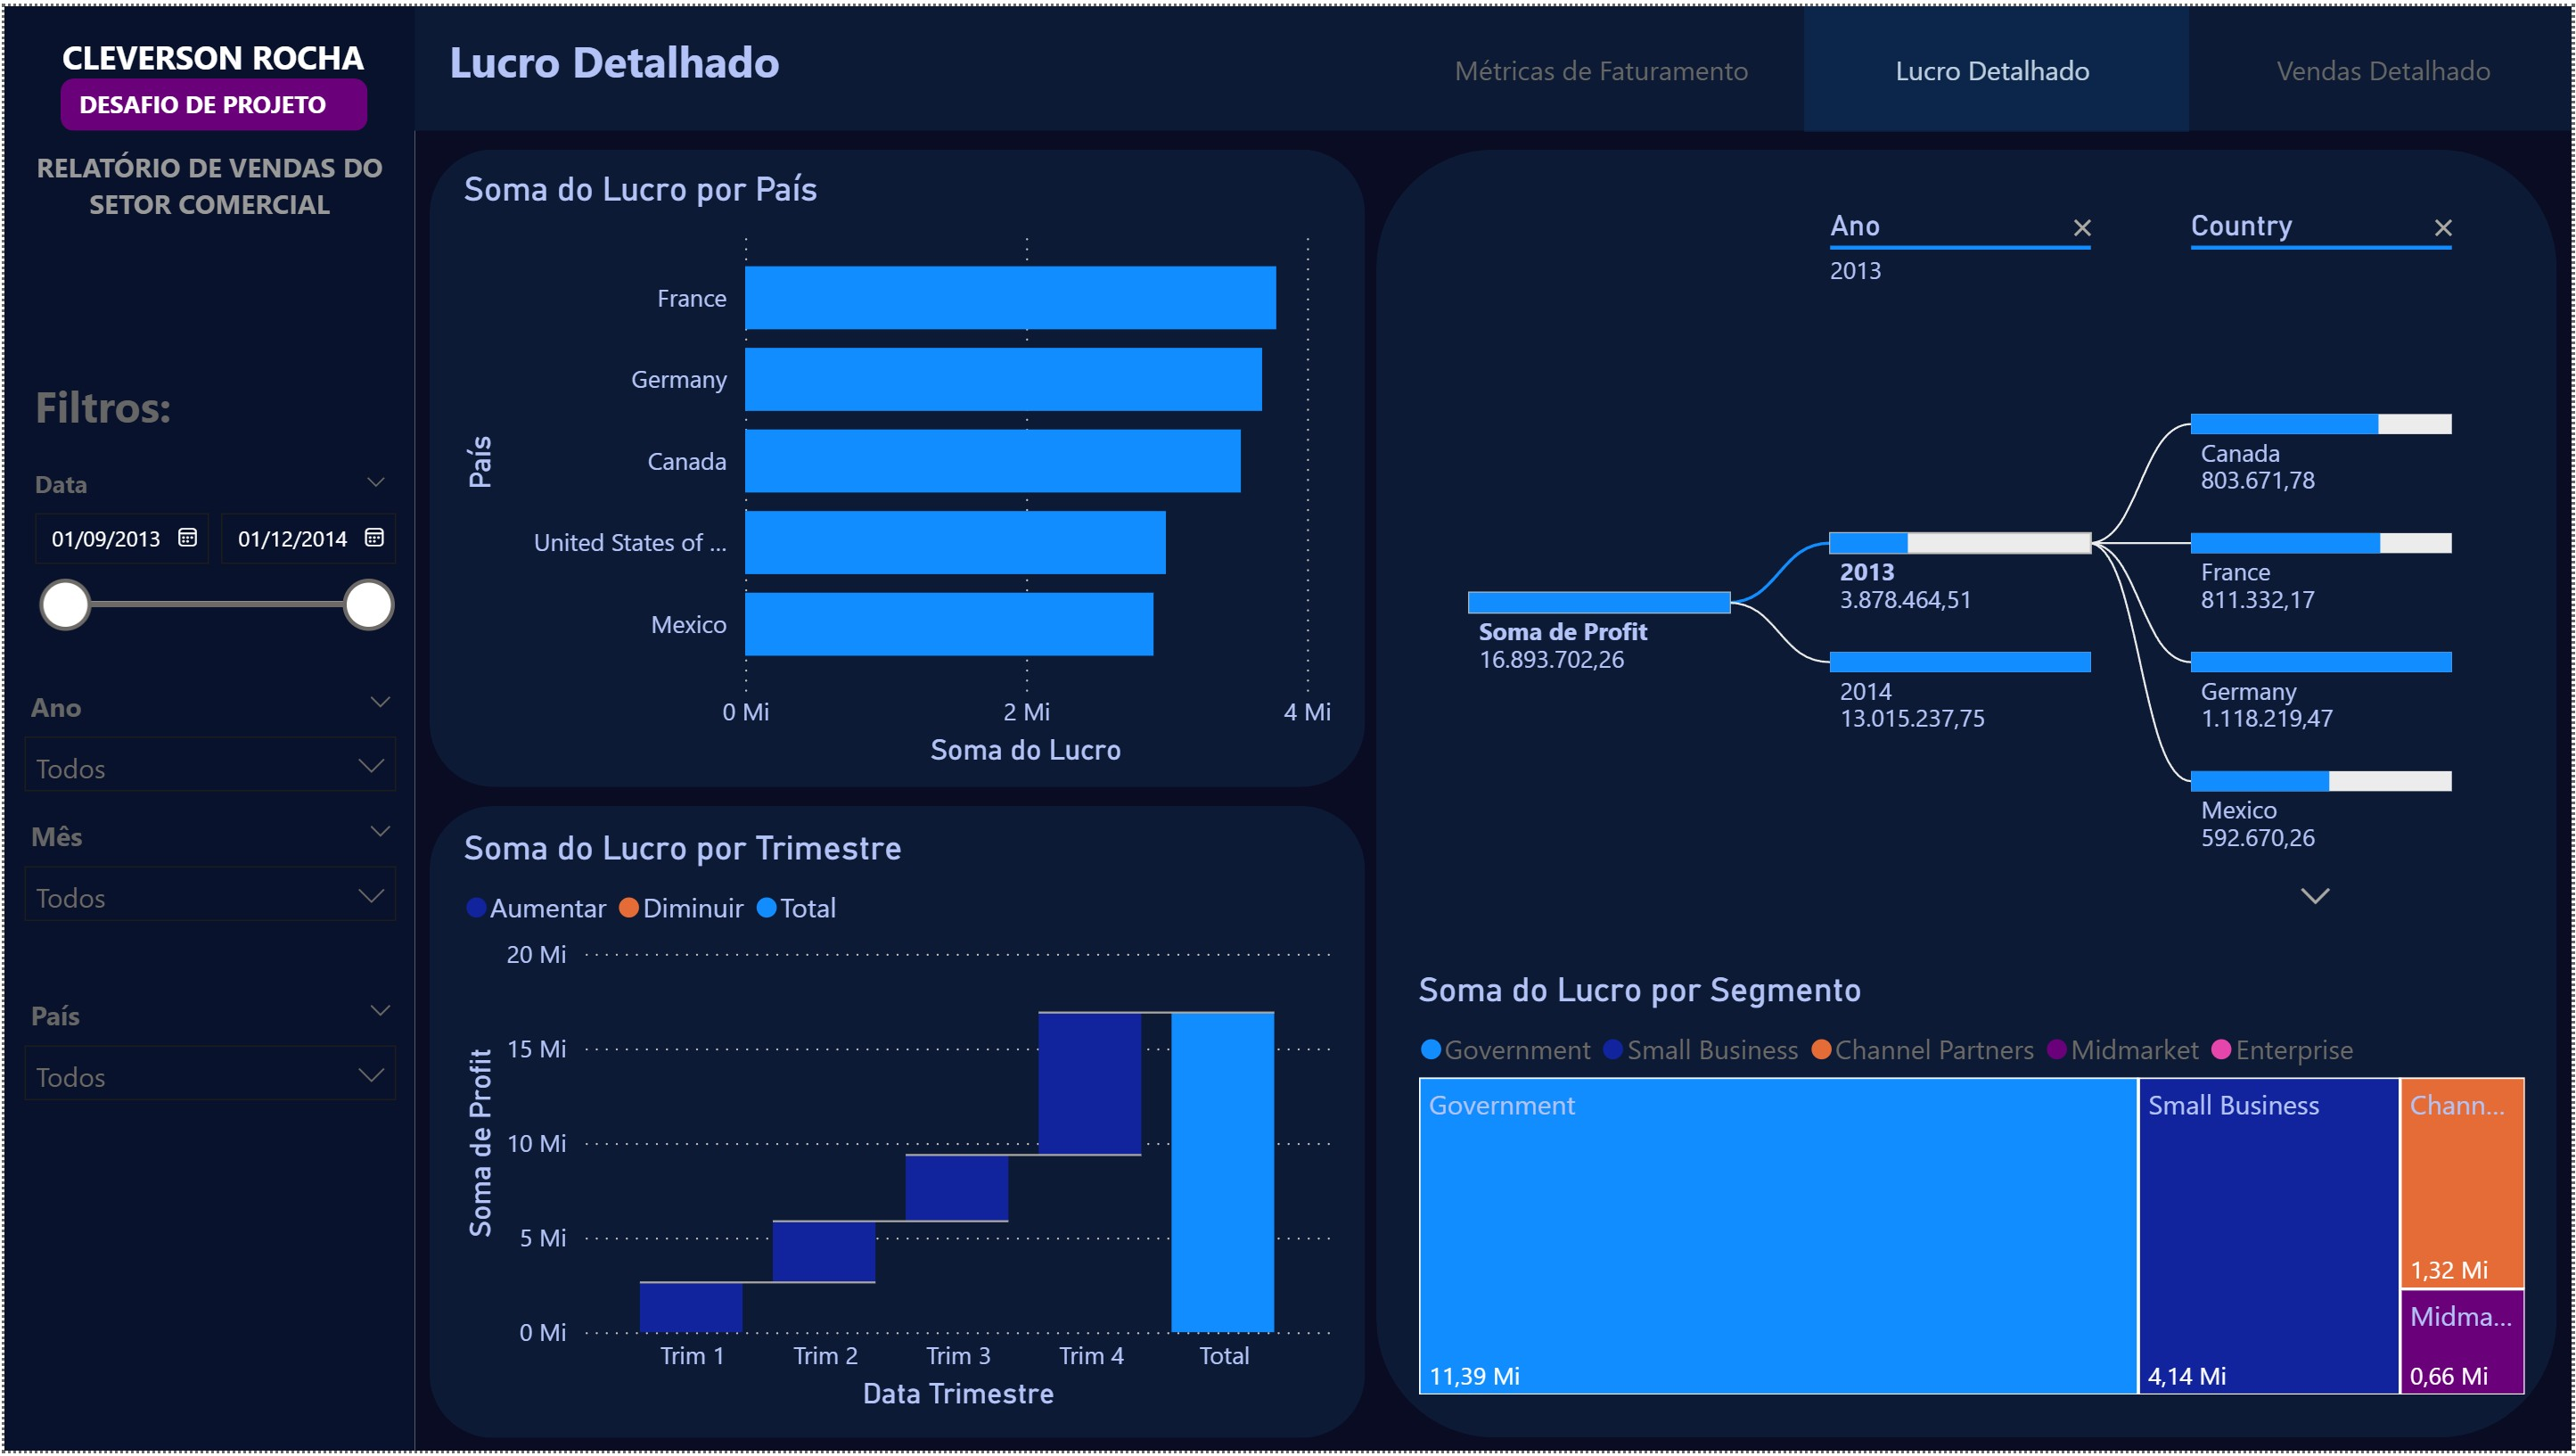

The page's visual inventory and layout, read from the dashboard file:
{"tool":"powerbi","page":{"name":"Lucro Detalhado","canvas":[1280,720],"ordinal":1},"visuals":[{"type":"pageNavigator","box":[717.9,35,562.1,62.1],"z":0,"group":"g1"},{"type":"shape","box":[1087.7,0,192.3,62.3],"z":1000,"group":"g1"},{"type":"shape","box":[896.9,0,192.3,62.3],"z":2000,"group":"g1"},{"type":"shape","box":[204.6,59.2,1075.4,660.8],"z":3000,"group":"g1"},{"type":"shape","box":[0,0,1280,62.1],"z":4000,"group":"g1"},{"type":"shape","box":[0,0,204.6,720],"z":5000,"group":"g1"},{"type":"slicer","fields":{"Values":["financials.Date"]},"box":[2.3,224.6,200.8,97.7],"z":6000,"group":"g1"},{"type":"shape","box":[684.3,71.4,588.6,642.1],"z":7000,"group":"g1"},{"type":"textbox","box":[5.4,8.5,197.7,40.8],"z":8000,"group":"g1"},{"type":"shape","box":[27.7,36.2,153.1,26.2],"z":9000,"group":"g1"},{"type":"textbox","box":[0,33.1,197.7,29.2],"z":10000,"group":"g1"},{"type":"textbox","box":[0,65.4,204.6,52.3],"z":11000,"group":"g1"},{"type":"textbox","box":[10,178.8,193.1,40],"z":12000,"group":"g1"},{"type":"slicer","fields":{"Values":["financials.Date.Variation.Hierarquia de datas.Ano"]},"box":[0,333.8,205.4,63.8],"z":13000,"group":"g1"},{"type":"slicer","fields":{"Values":["financials.Date.Variation.Hierarquia de datas.Mês"]},"box":[0,398.5,205.4,63.8],"z":14000,"group":"g1"},{"type":"slicer","fields":{"Values":["financials.Country"]},"box":[0,487.7,205.4,63.8],"z":15000,"group":"g1"},{"type":"textbox","box":[216.9,6.9,321.5,44.6],"z":16000,"group":"g1"},{"type":"pageNavigator","box":[704.3,0,575.7,62.1],"z":17000,"group":"g1"},{"type":"shape","box":[897.1,0,192.1,62.9],"z":18000,"group":"g1"},{"type":"decompositionTreeVisual","fields":{"Analyze":["Sum(financials.Profit)"],"ExplainBy":["financials.Date.Variation.Hierarquia de datas.Ano","financials.Country"]},"box":[700,84.3,553.6,403.6],"z":19000,"group":"g1"},{"type":"shape","box":[212.1,71.4,466.4,317.9],"z":20000,"group":"g1"},{"type":"shape","box":[212.1,398.6,466.4,315],"z":21000,"group":"g1"},{"type":"waterfallChart","title":"Soma do Lucro por Trimestre","fields":{"Category":["financials.Date.Variation.Hierarquia de datas.Trimestre"],"Y":["Sum(financials.Profit)"]},"box":[224.3,409.3,442.1,294.3],"z":22000,"group":"g1"},{"type":"treemap","title":"Soma do Lucro por Segmento","fields":{"Values":["Sum(financials.Profit)"],"Group":["financials.Segment"]},"box":[700,480,561.5,216.9],"z":23000,"group":"g1"},{"type":"clusteredBarChart","title":"Soma do Lucro por País","fields":{"Y":["Sum(financials.Profit)"],"Category":["financials.Country"]},"box":[224.3,80.7,442.1,302.1],"z":24000,"group":"g1"},{"type":"group","id":"g1","title":"Grupo 1","box":[0,0,1280,720],"z":24001}]}

Visuals, with their boxes in screenshot pixels (x1, y1, x2, y2), scaled from the page's 1280x720 canvas onto the 2576x1456 screenshot:
pageNavigator: (1445,70,2575,196)
shape: (2189,0,2575,126)
shape: (1805,0,2192,126)
shape: (412,119,2575,1455)
shape: (0,0,2575,126)
shape: (0,0,412,1455)
slicer - financials.Date: (4,454,409,652)
shape: (1377,144,2562,1443)
textbox: (11,17,409,100)
shape: (56,73,364,127)
textbox: (0,67,398,126)
textbox: (0,132,412,238)
textbox: (21,362,409,442)
slicer - financials.Date.Variation.Hierarquia de datas.Ano: (0,675,414,804)
slicer - financials.Date.Variation.Hierarquia de datas.Mês: (0,806,414,935)
slicer - financials.Country: (0,986,414,1115)
textbox: (437,14,1084,104)
pageNavigator: (1417,0,2575,126)
shape: (1805,0,2192,128)
decompositionTreeVisual - Sum(financials.Profit) x financials.Date.Variation.Hierarquia de datas.Ano: (1408,170,2523,987)
shape: (427,144,1366,787)
shape: (427,806,1366,1443)
"Soma do Lucro por Trimestre" waterfallChart: (451,827,1341,1423)
"Soma do Lucro por Segmento" treemap: (1408,971,2539,1410)
"Soma do Lucro por País" clusteredBarChart: (451,163,1341,774)
"Grupo 1" group: (0,0,2575,1455)
